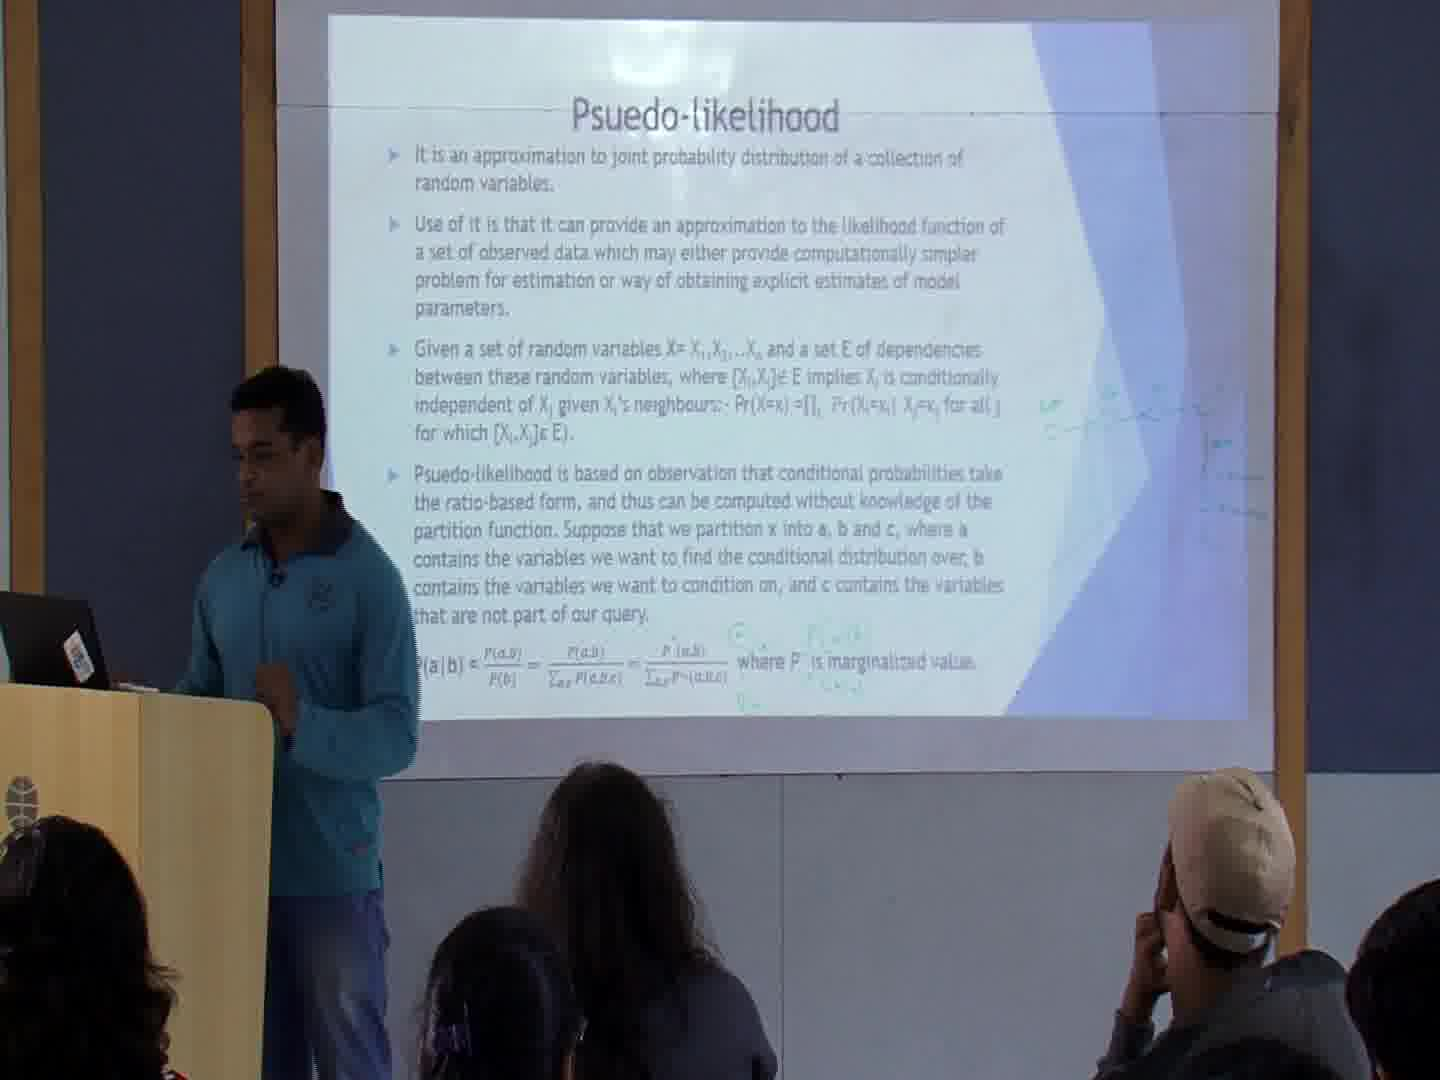eq: (413, 641, 737, 697)
